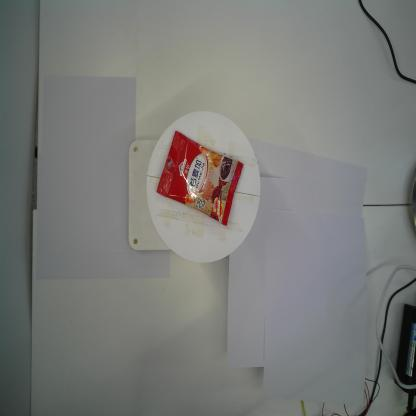Instant Drink: (155, 128, 244, 227)
